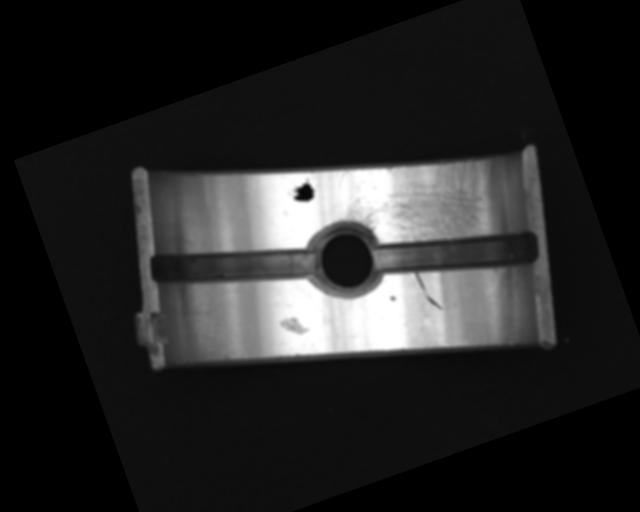blot: (284, 177, 318, 207)
bruise: (278, 311, 309, 340), (389, 294, 396, 303)
gap: (368, 194, 544, 314), (147, 206, 320, 326)
hole: (299, 213, 391, 307)
nick: (413, 267, 443, 316)
scratch: (325, 125, 516, 279)
